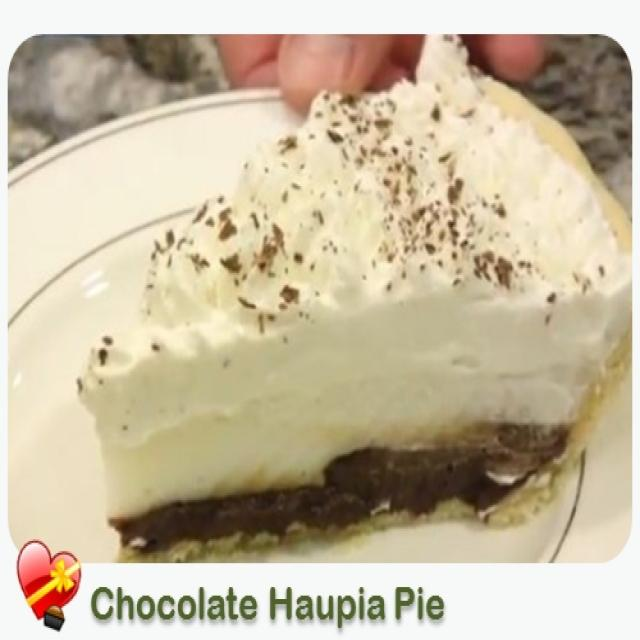蛋糕甜品: (32, 54, 616, 554)
